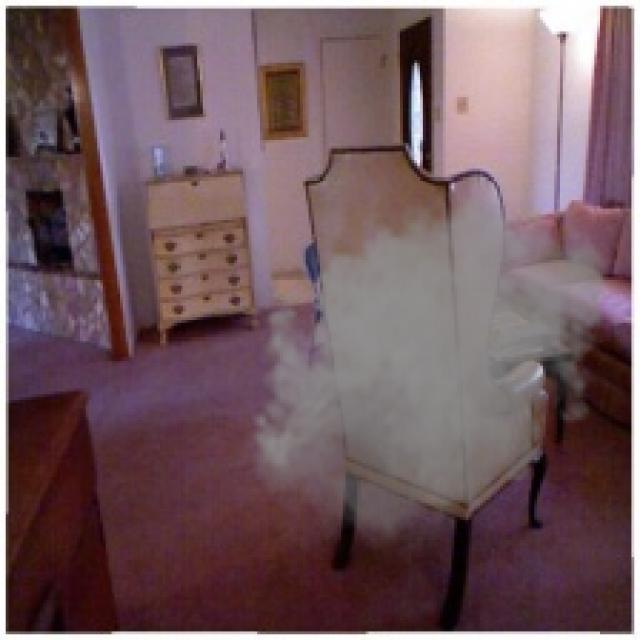Smoke: (240, 183, 614, 560)
